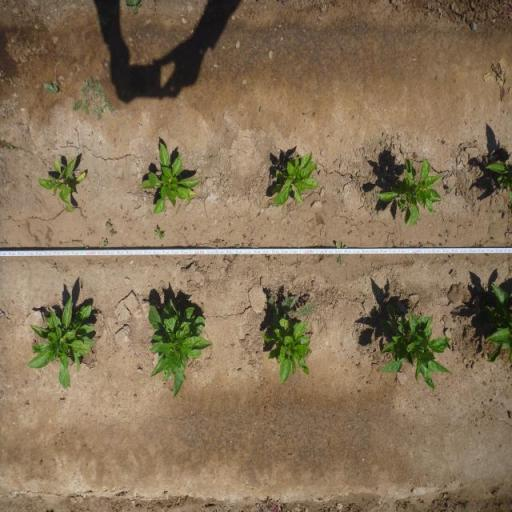plant: (22, 294, 96, 392), (376, 304, 452, 394), (145, 298, 212, 400), (374, 158, 442, 228), (139, 141, 202, 214), (260, 318, 311, 386), (270, 150, 320, 210), (38, 156, 87, 214), (480, 278, 512, 362), (484, 160, 512, 200)
weed: (70, 75, 116, 123), (266, 292, 318, 320), (460, 9, 478, 33), (334, 240, 349, 266), (124, 0, 141, 15), (96, 12, 110, 30), (43, 80, 59, 94), (154, 227, 166, 241), (229, 254, 239, 264), (86, 227, 96, 236), (106, 219, 114, 229), (108, 228, 118, 236), (444, 228, 452, 238), (65, 139, 74, 147), (103, 238, 109, 248), (212, 238, 222, 244), (446, 186, 453, 194), (222, 239, 228, 248), (264, 256, 272, 262), (412, 152, 418, 160), (8, 145, 14, 153), (121, 243, 127, 250), (233, 243, 240, 249), (241, 233, 248, 239), (208, 154, 214, 161), (351, 176, 357, 183), (84, 245, 89, 251), (249, 254, 254, 260), (348, 230, 353, 236), (440, 140, 446, 145), (184, 225, 188, 232), (160, 243, 164, 249), (241, 242, 245, 248), (258, 106, 262, 112), (438, 242, 444, 246), (7, 216, 11, 221), (211, 117, 215, 122), (380, 141, 384, 145)
